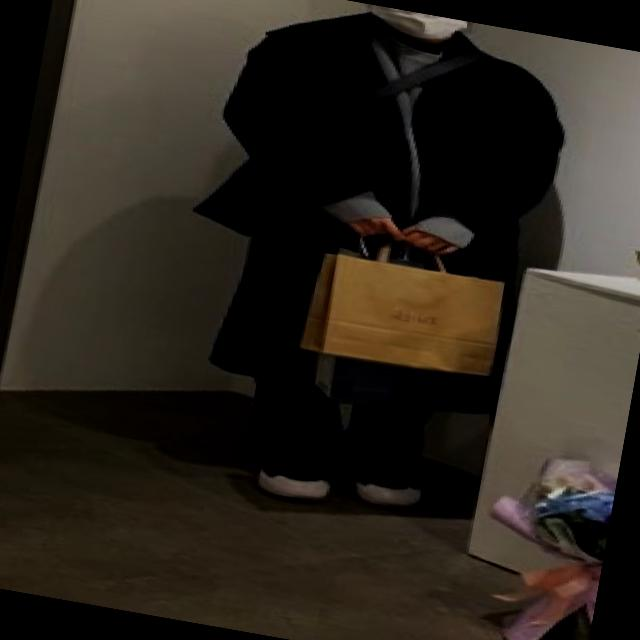coat: (171, 0, 580, 424)
slacks: (242, 371, 430, 495)
